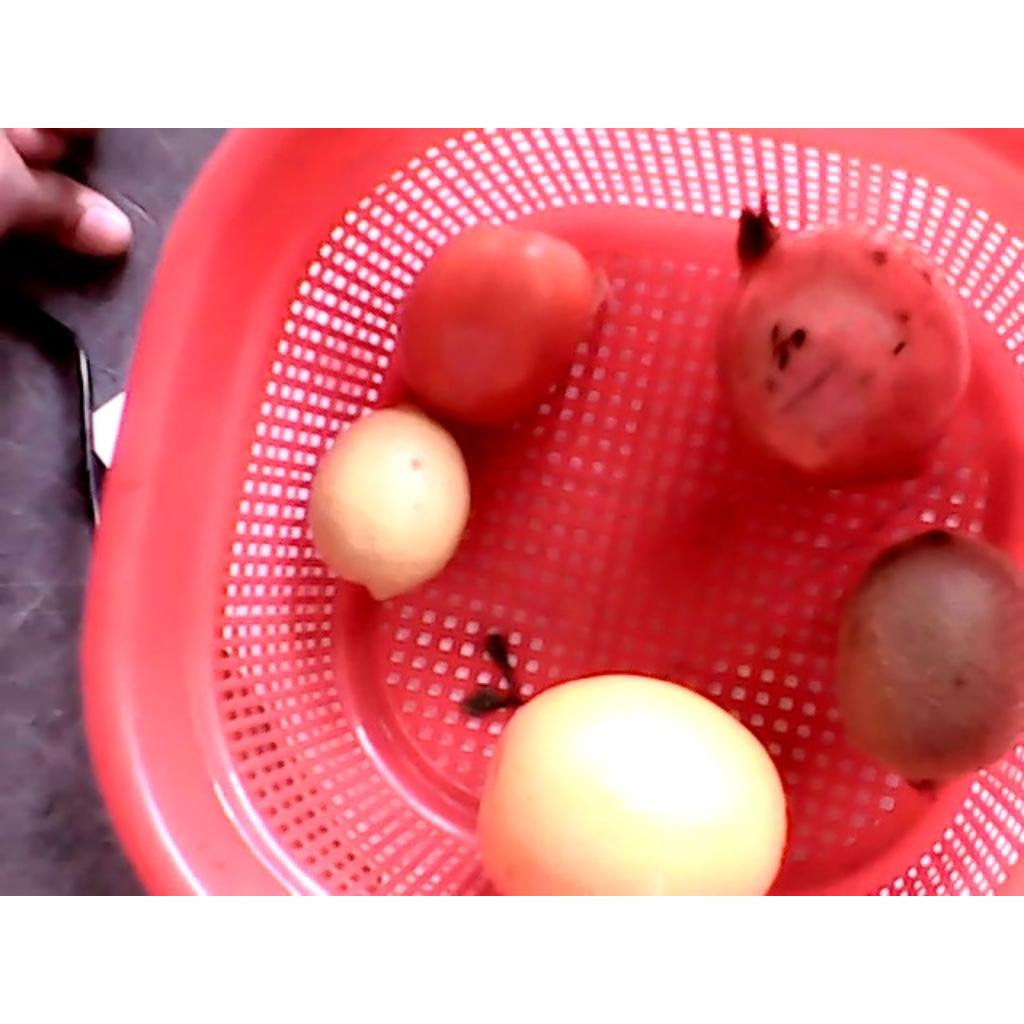lemon: (308, 410, 467, 604)
orange: (476, 672, 784, 894)
pomegranate: (841, 527, 1022, 795)
tomato: (399, 224, 593, 426)
